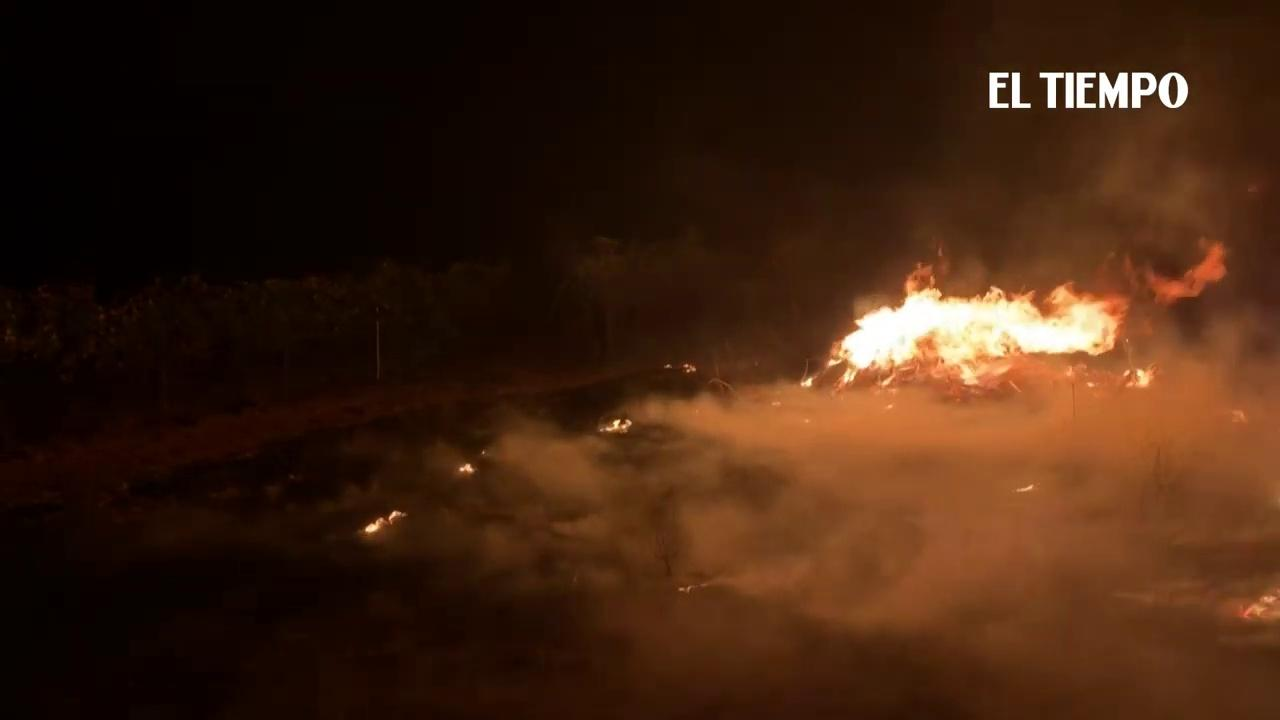Fire: (816, 239, 1231, 391), (1237, 586, 1278, 624), (366, 508, 410, 535), (599, 417, 636, 434), (682, 358, 699, 374), (457, 462, 474, 475), (801, 377, 815, 390)
